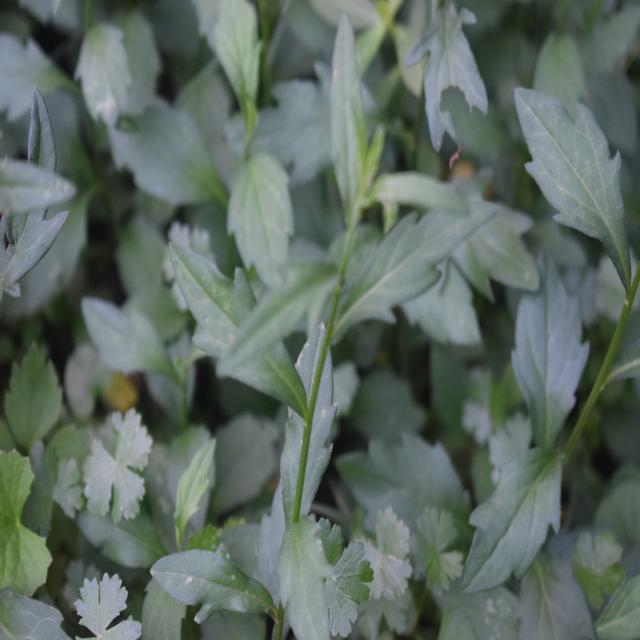Indian aster: (201, 81, 450, 525)
